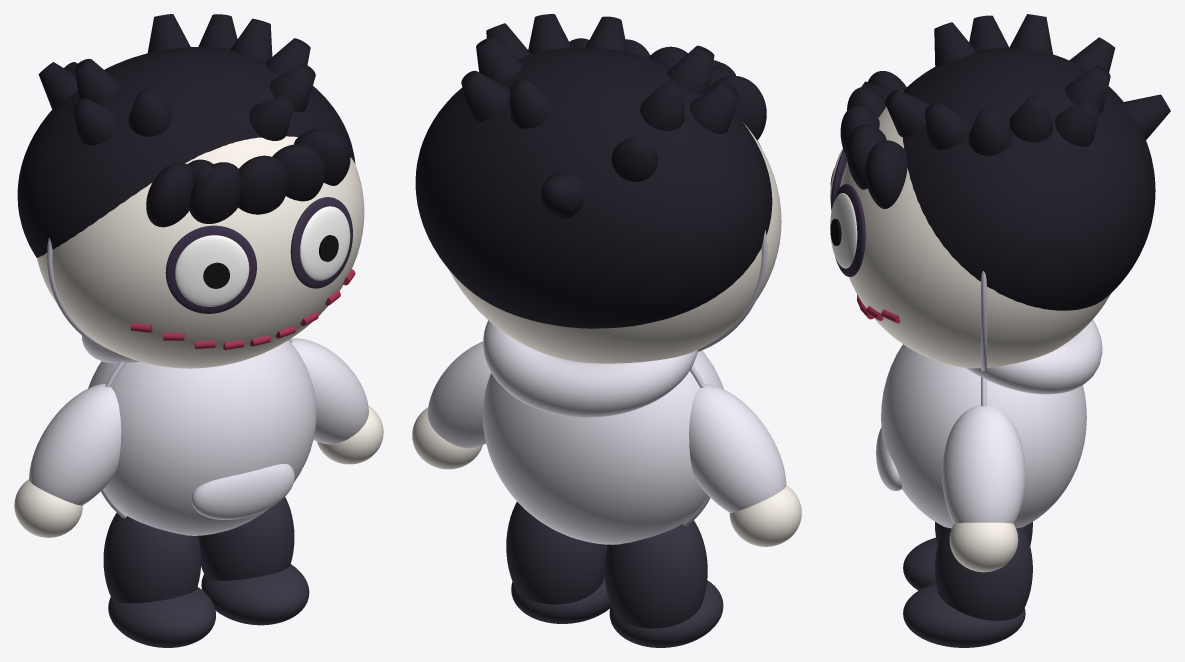
File: Jeff_Plush.fbx
3 renders of one model, left to right at view 1: azimuth 30°, elevation 25°; view 2: azimuth 150°, elevation 25°; view 3: azimuth 270°, elevation 25°, orthographic. The views are drawn at different scales.
Parts seen in each view (by area): view 1: Plush_Head, Plush_UpperTorso, Plush_Head_hair, Plush_RightUpperArm, Plush_RightUpperLeg, Plush_LeftUpperLeg, Plush_LeftUpperArm, Plush_RightFoot, Plush_LeftFoot, Plush_UpperTorso_pocket, Plush_Head_eye.001, Plush_RightHand (+22 smaller); view 2: Plush_Head_hair, Plush_UpperTorso, Plush_Head, Plush_UpperTorso_hood, Plush_RightUpperArm, Plush_RightUpperLeg, Plush_LeftUpperLeg, Plush_LeftUpperArm, Plush_RightHand, Plush_RightFoot, Plush_LeftFoot, Plush_LeftHand (+13 smaller); view 3: Plush_Head_hair, Plush_Head, Plush_UpperTorso, Plush_LeftUpperArm, Plush_LeftUpperLeg, Plush_UpperTorso_hood, Plush_LeftFoot, Plush_LeftHand, Plush_Head_bang.004, Plush_Head_tuft.004, Plush_Head_tuft.001, Plush_Head_tuft.003 (+17 smaller).
Part boxes in pixels (x1,y1,x2,y2): Plush_Head: (37,136,364,368); Plush_UpperTorso: (88,340,316,535); Plush_Head_hair: (17,47,355,257); Plush_RightUpperArm: (29,384,121,505); Plush_RightUpperLeg: (103,513,201,603); Plush_LeftUpperLeg: (198,497,294,580); Plush_LeftUpperArm: (291,338,368,444); Plush_RightFoot: (108,587,215,647); Plush_LeftFoot: (201,564,309,625); Plush_UpperTorso_pocket: (191,464,294,519); Plush_Head_eye.001: (175,235,249,306); Plush_RightHand: (14,479,82,537); Plush_Head_hair: (415,47,772,328); Plush_UpperTorso: (483,350,723,544); Plush_Head: (448,122,781,363); Plush_UpperTorso_hood: (483,320,698,417); Plush_RightUpperArm: (689,384,786,512); Plush_RightUpperLeg: (604,520,707,628); Plush_LeftUpperLeg: (506,502,607,604); Plush_LeftUpperArm: (427,341,491,448); Plush_RightHand: (729,485,801,546); Plush_RightFoot: (609,580,723,647); Plush_LeftFoot: (511,577,610,623); Plush_LeftHand: (412,407,482,469); Plush_Head_hair: (902,47,1155,310); Plush_Head: (840,91,1110,368); Plush_UpperTorso: (881,344,1086,528); Plush_LeftUpperArm: (942,405,1025,523); Plush_LeftUpperLeg: (935,527,1032,620); Plush_UpperTorso_hood: (966,319,1102,394); Plush_LeftFoot: (903,583,1025,647); Plush_LeftHand: (949,522,1018,572); Plush_Head_bang.004: (865,140,907,208); Plush_Head_tuft.004: (1055,99,1099,146); Plush_Head_tuft.001: (925,103,968,149); Plush_Head_tuft.003: (1009,95,1052,142).
Bounding box in the file's own units: 1.7 × 2.53 × 1.39.
